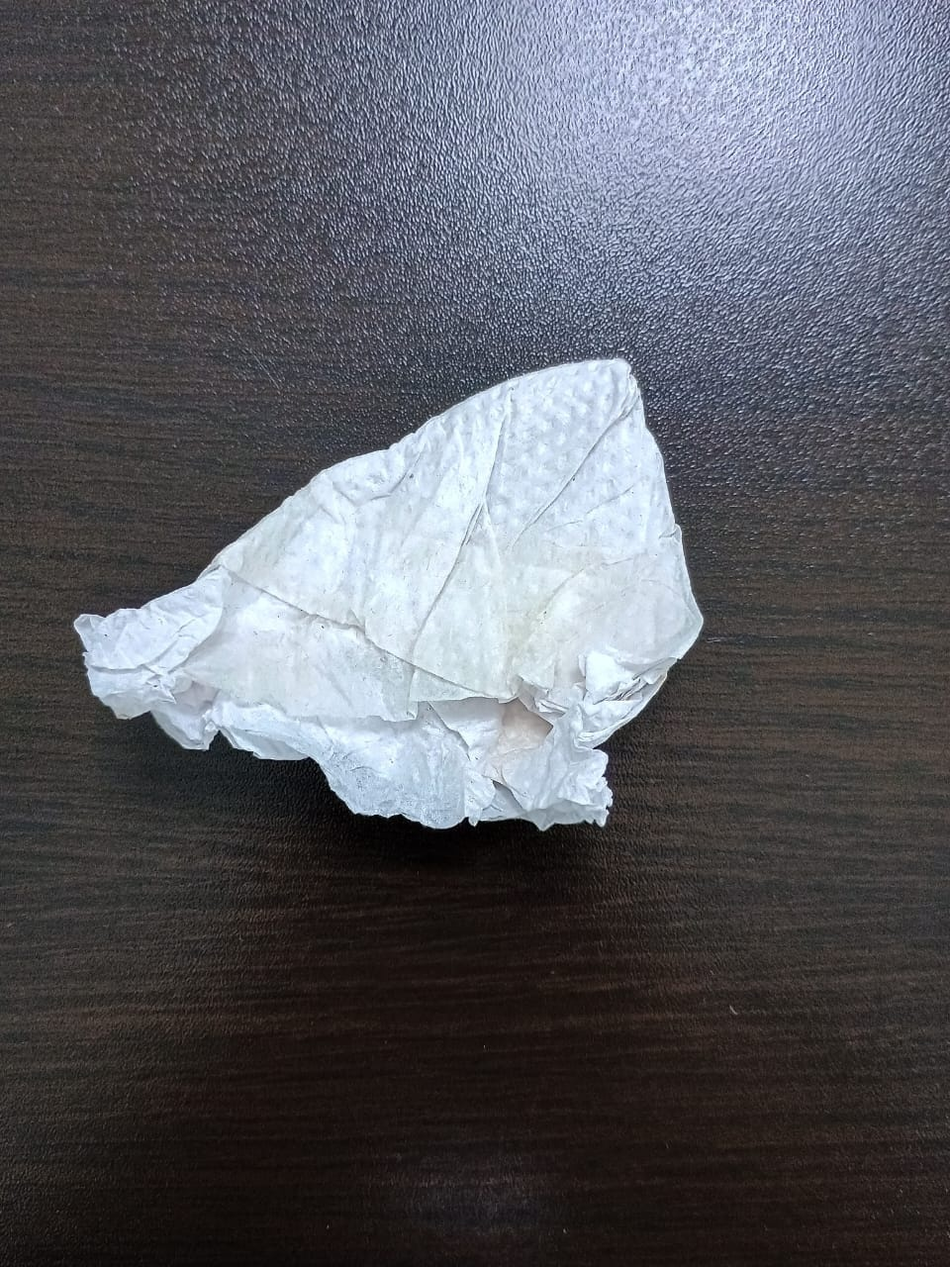Ordinario: (76, 355, 707, 834)
